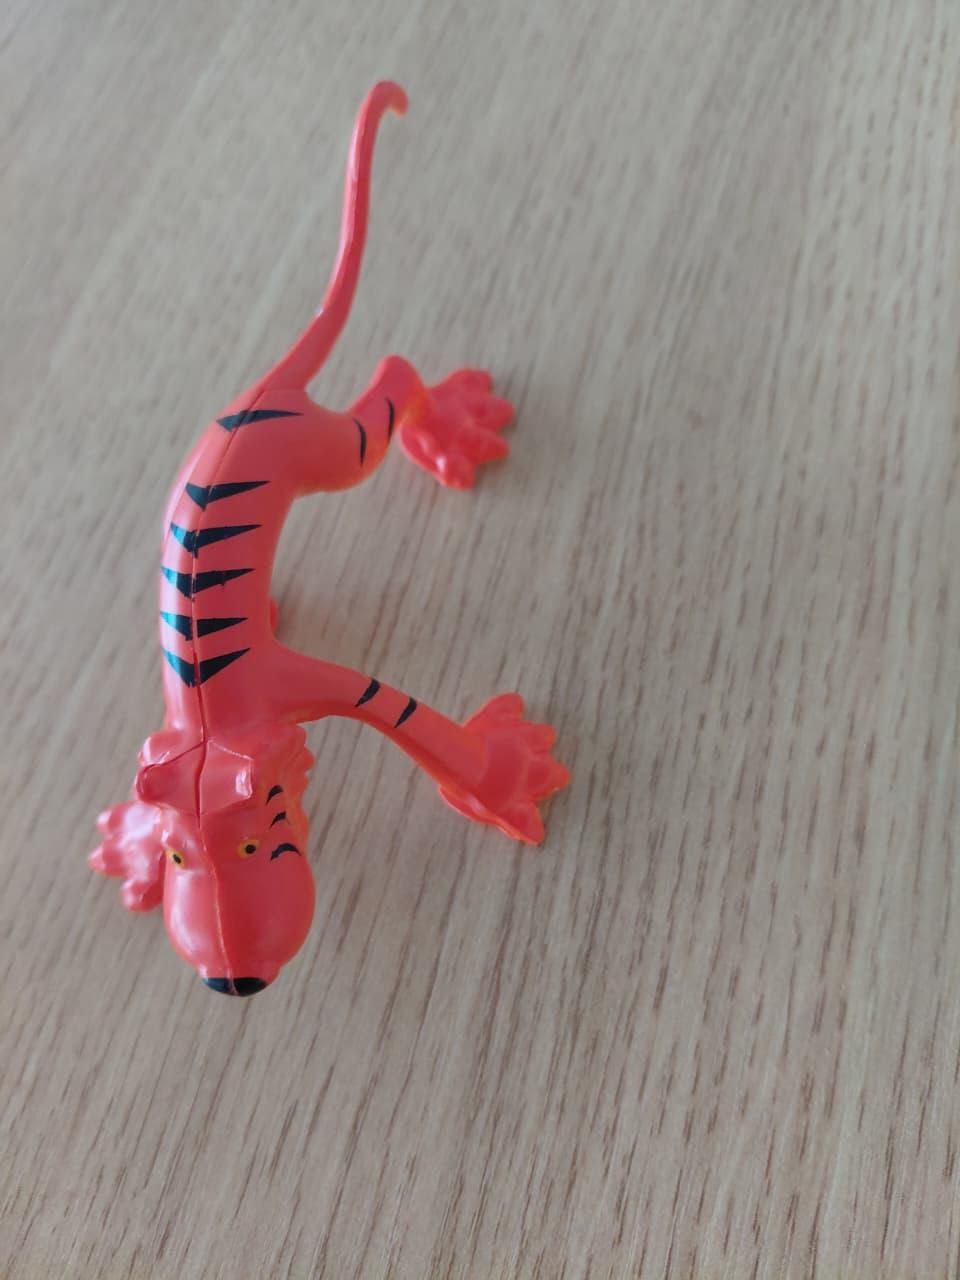tiger: (37, 66, 636, 1007)
